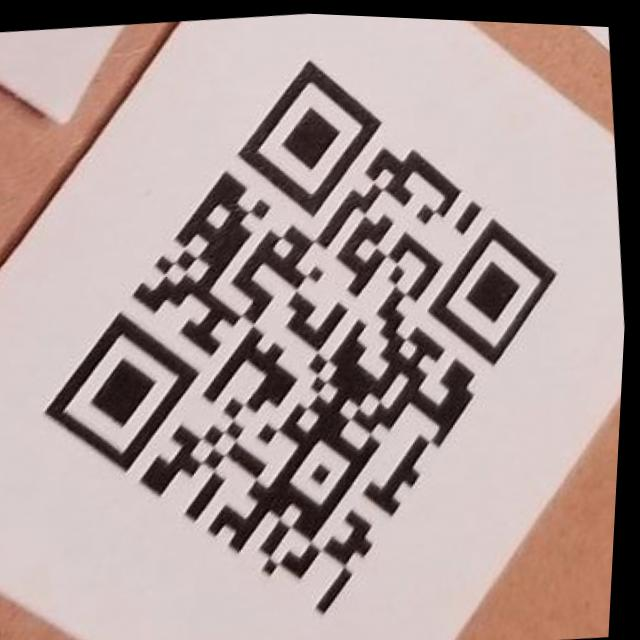QR_CODE: (4, 20, 607, 640)
